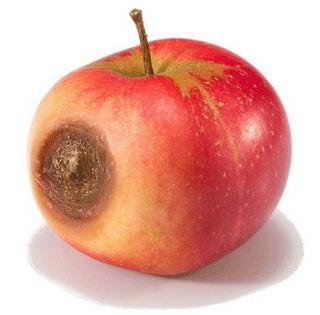Apple: (28, 37, 290, 277)
